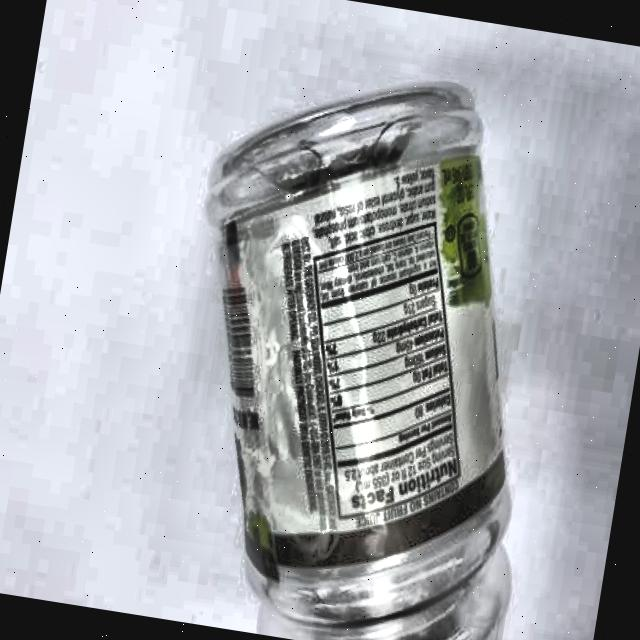plastic: (140, 45, 592, 640)
